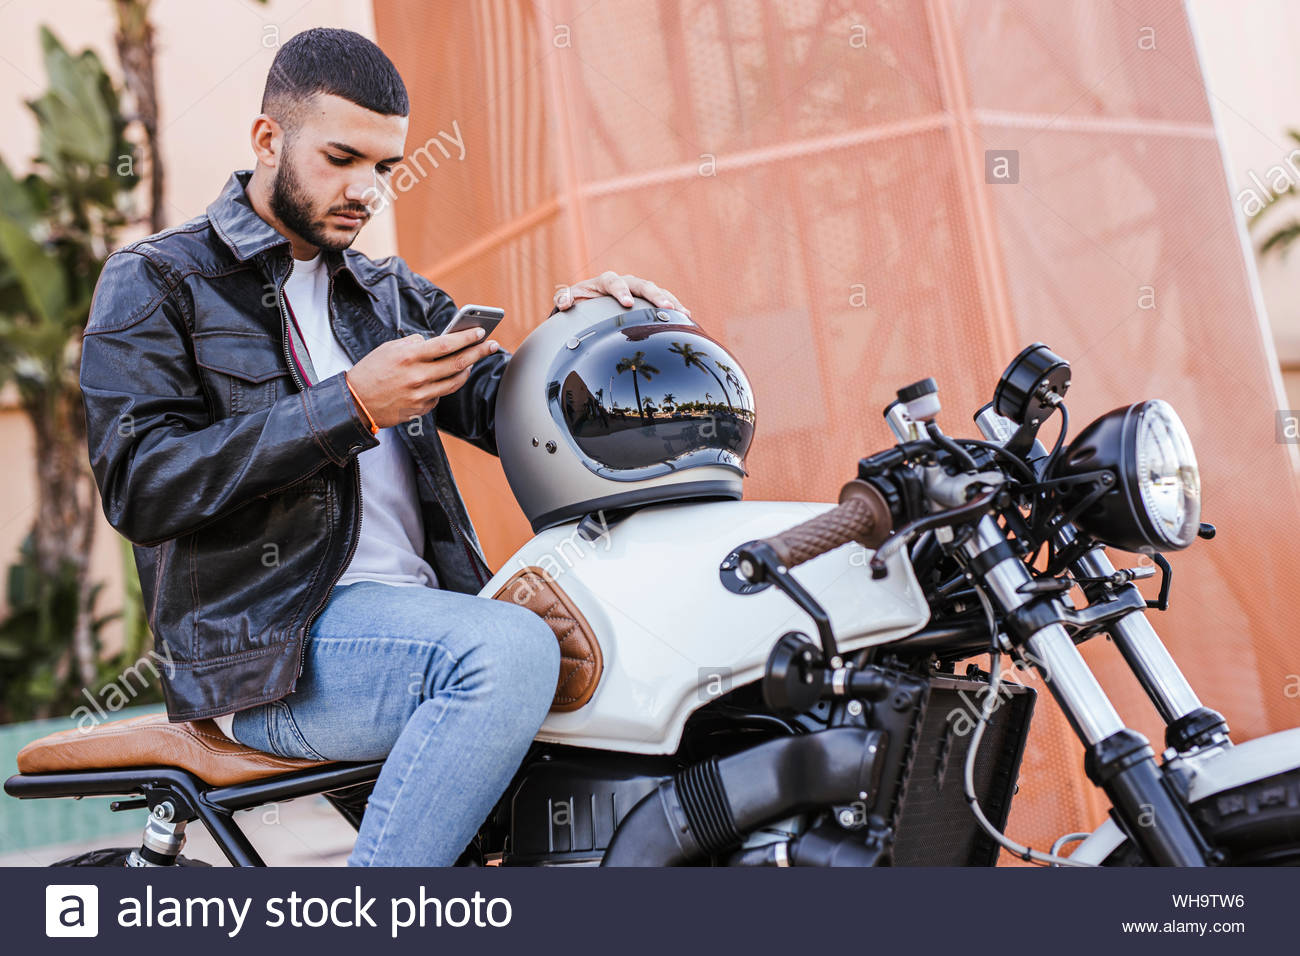su dung dien thoai: (253, 26, 504, 423)
